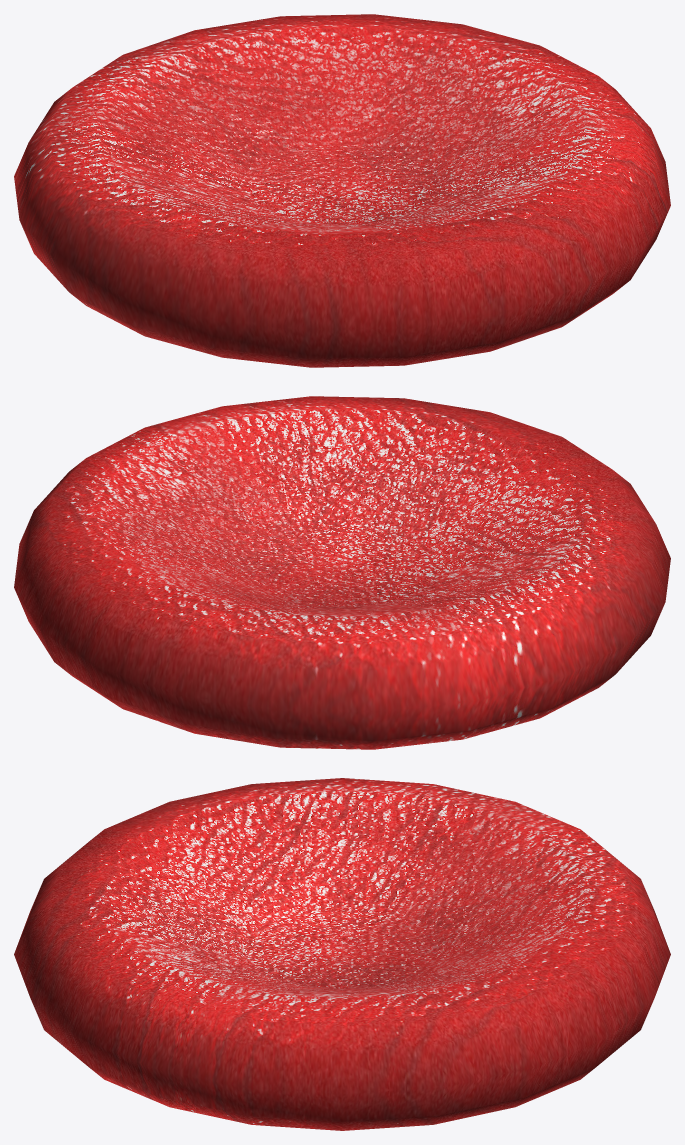
File: redbloodCell.fbx
3 renders of one model, top to bottom at view 1: azimuth 30°, elevation 25°; view 2: azimuth 150°, elevation 25°; view 3: azimuth 270°, elevation 25°, orthographic.
Visible parts, largest first — view 1: Red_Blood_Cell; view 2: Red_Blood_Cell; view 3: Red_Blood_Cell.
Boxes of the visible parts, box(x1,y1,x2,y2) form: Red_Blood_Cell: box(14, 14, 670, 367); Red_Blood_Cell: box(14, 396, 670, 749); Red_Blood_Cell: box(14, 778, 670, 1130).
Bounding box in the file's own units: 2.09 × 0.4198 × 2.09.
